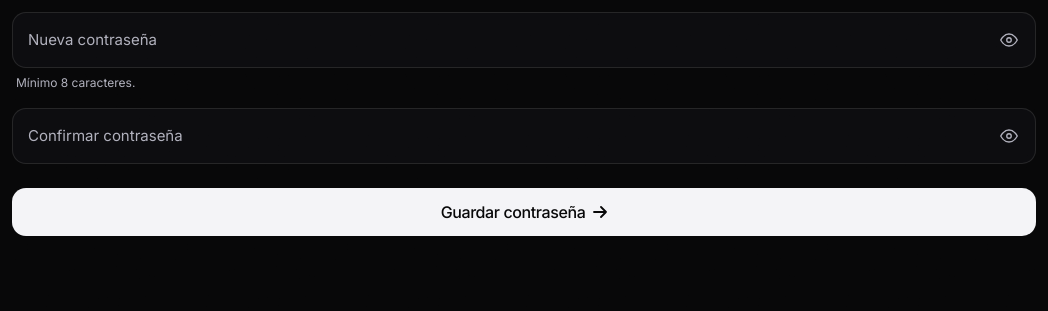
Test: UpdatePasswordForm › renders error alert when passwords don't match
Type "secret123" into the password field labelled "Nueva contraseña".
click(524, 40); type("secret123")  # box [12,12,1036,68]
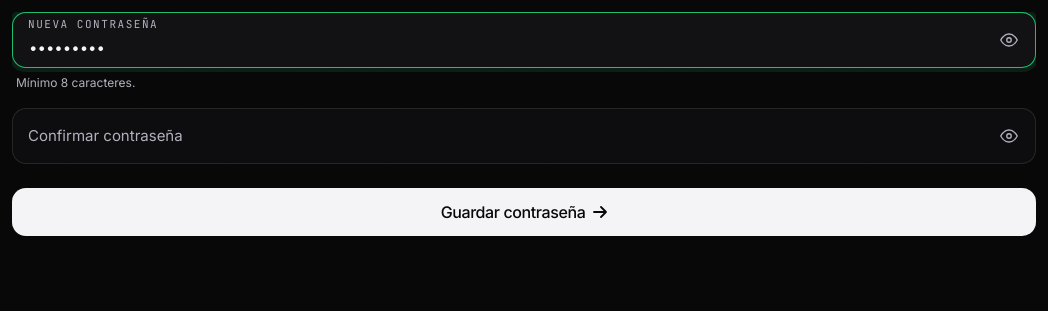
Type "secret999" into the password field labelled "Confirmar contraseña".
click(524, 136); type("secret999")  # box [12,108,1036,164]
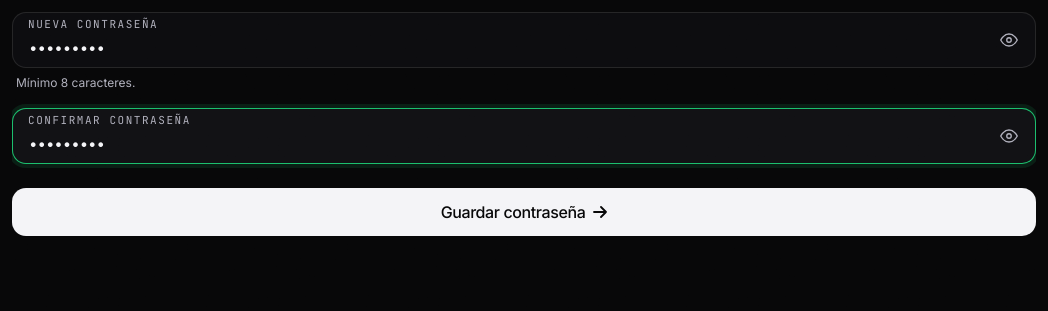
Click the button "Guardar contraseña".
click(524, 212)  # box [12,188,1036,236]
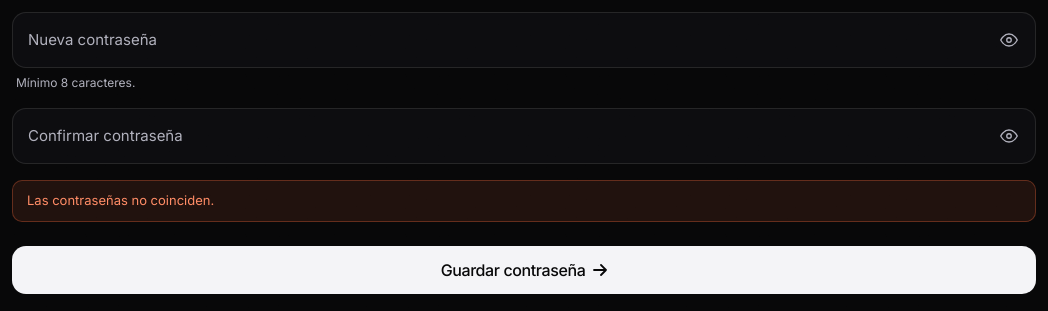
Expected: the message shows "no coinciden", [27,192,214,208]
